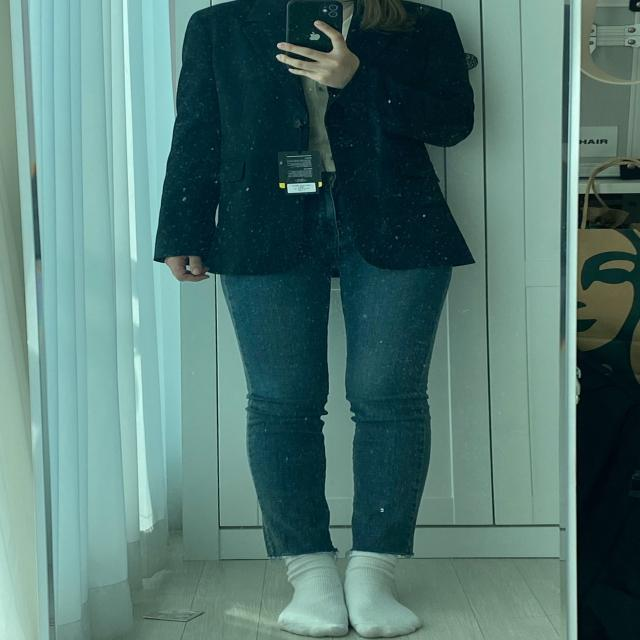blazer: (145, 0, 478, 274)
denimpants: (218, 168, 452, 560)
